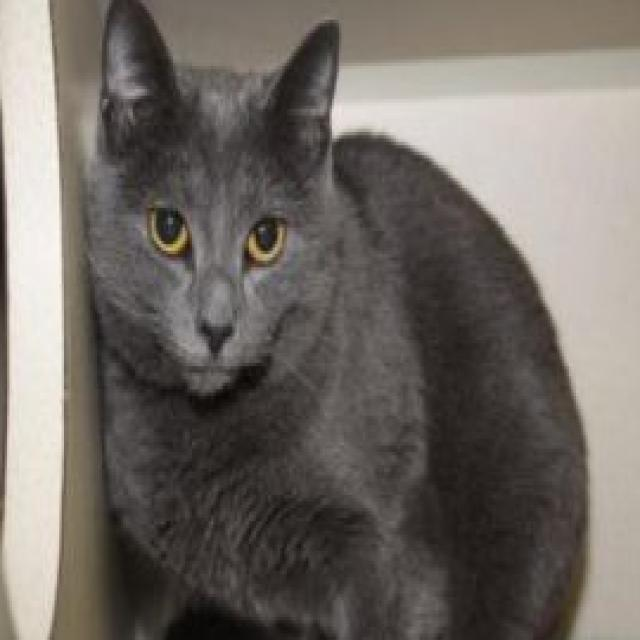Russian Blue: (78, 0, 595, 640)
